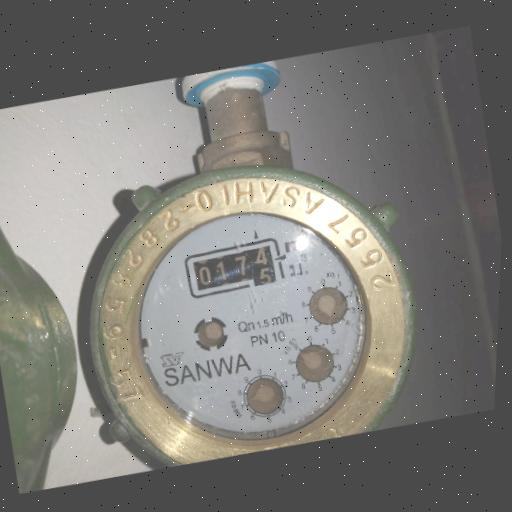0: (192, 258, 219, 291)
1: (210, 254, 237, 287)
4: (246, 245, 278, 287)
7: (228, 250, 255, 283)
border_water_meter_number: (181, 234, 288, 301)
